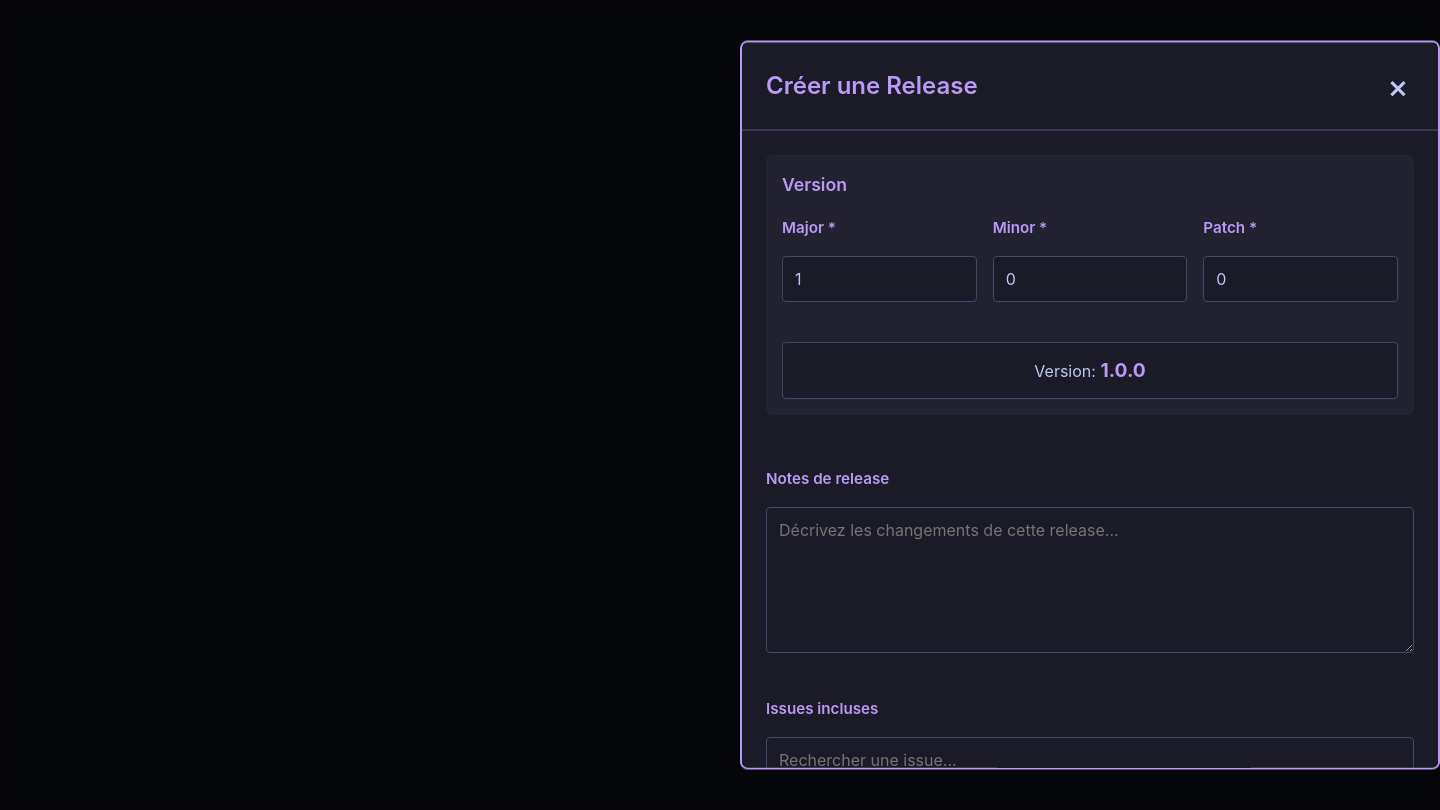
it: CreateReleaseForm › devrait valider que major >= 0
This screenshot has width=1440, height=810.
Step 1. Replace the text in the number field with id "major" with "-1" → (879, 278), box [782,255,977,301]
(page scrolled)
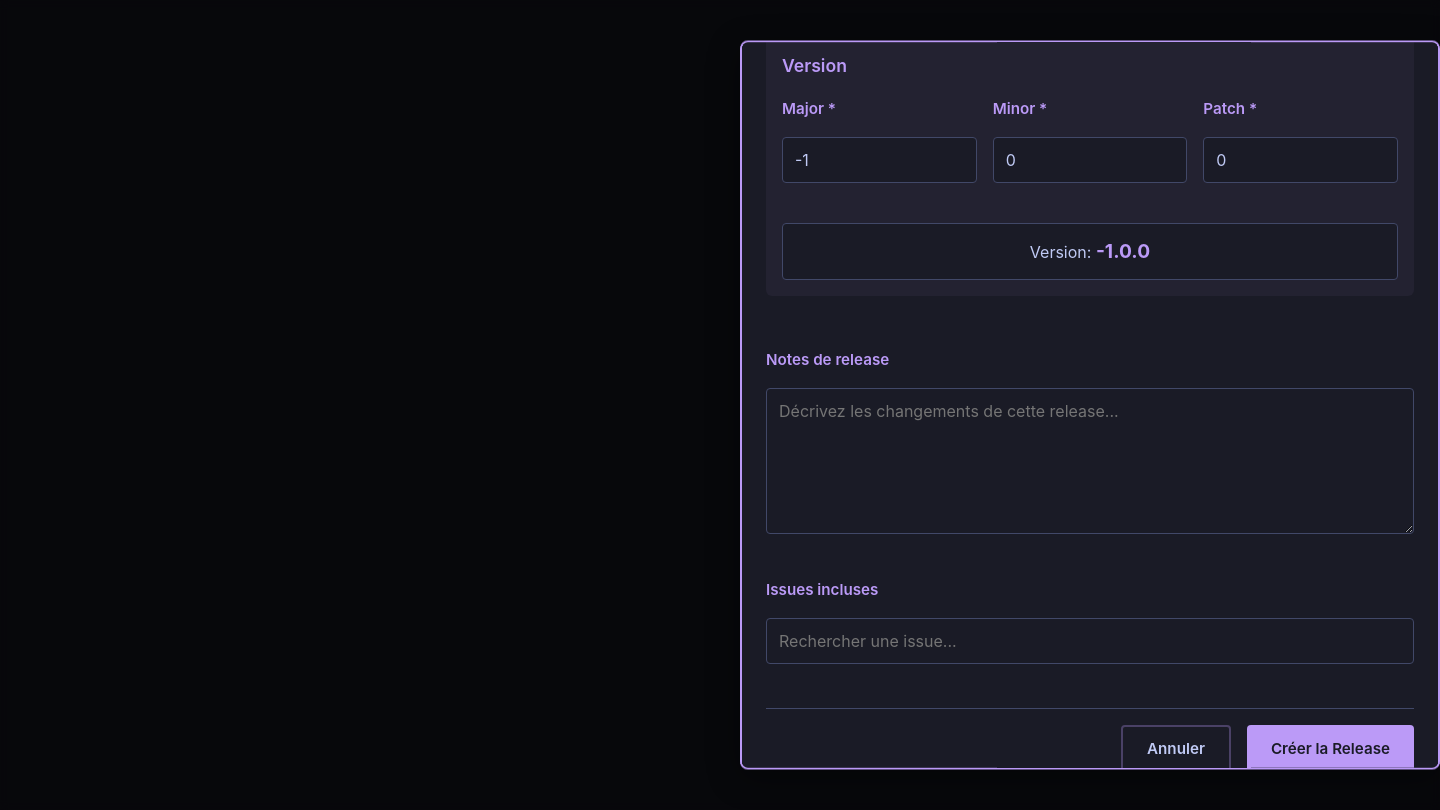
Step 2. Submit the form, box [742,13,1438,797]
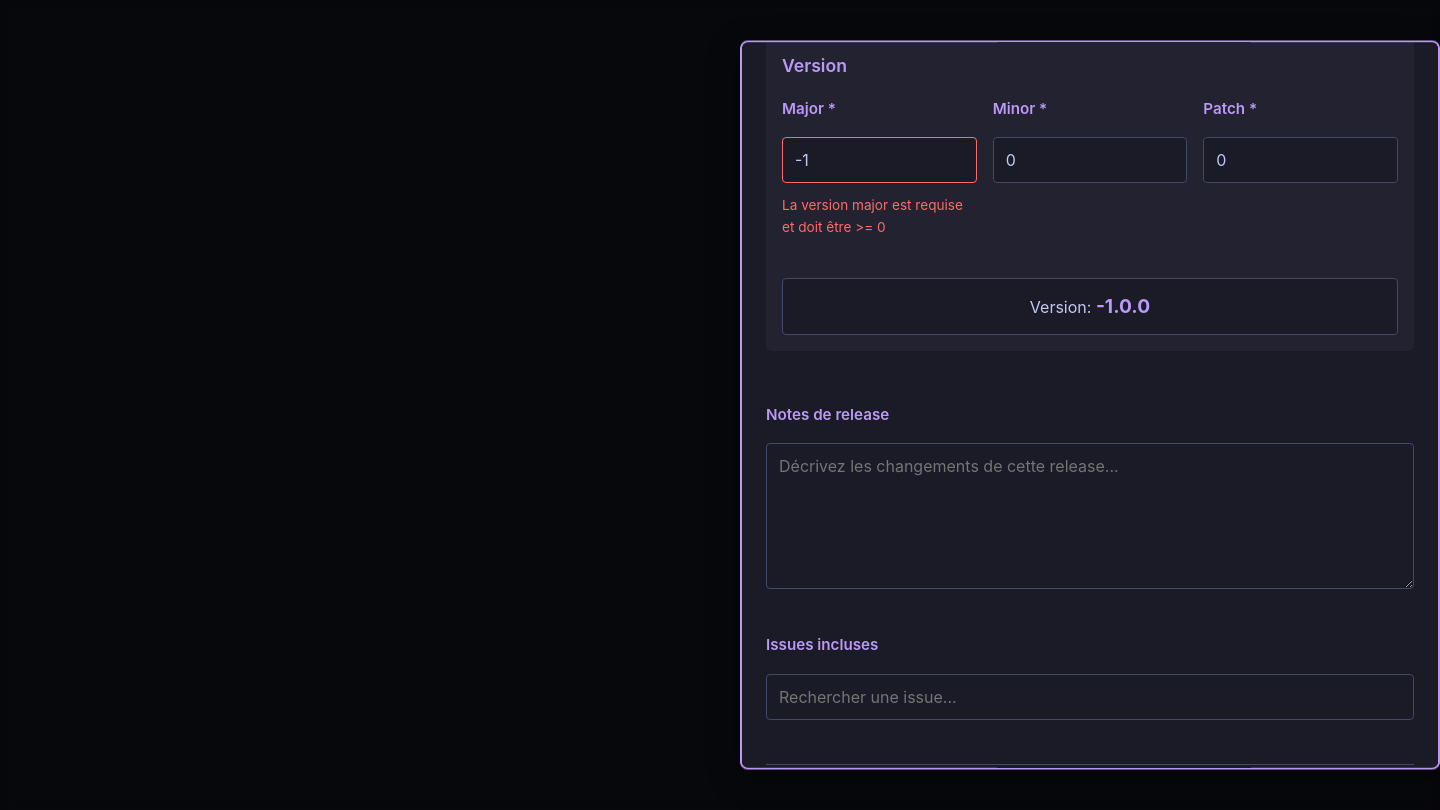
Now the text with class "error-message" shows "major", box [782,197,963,235]
